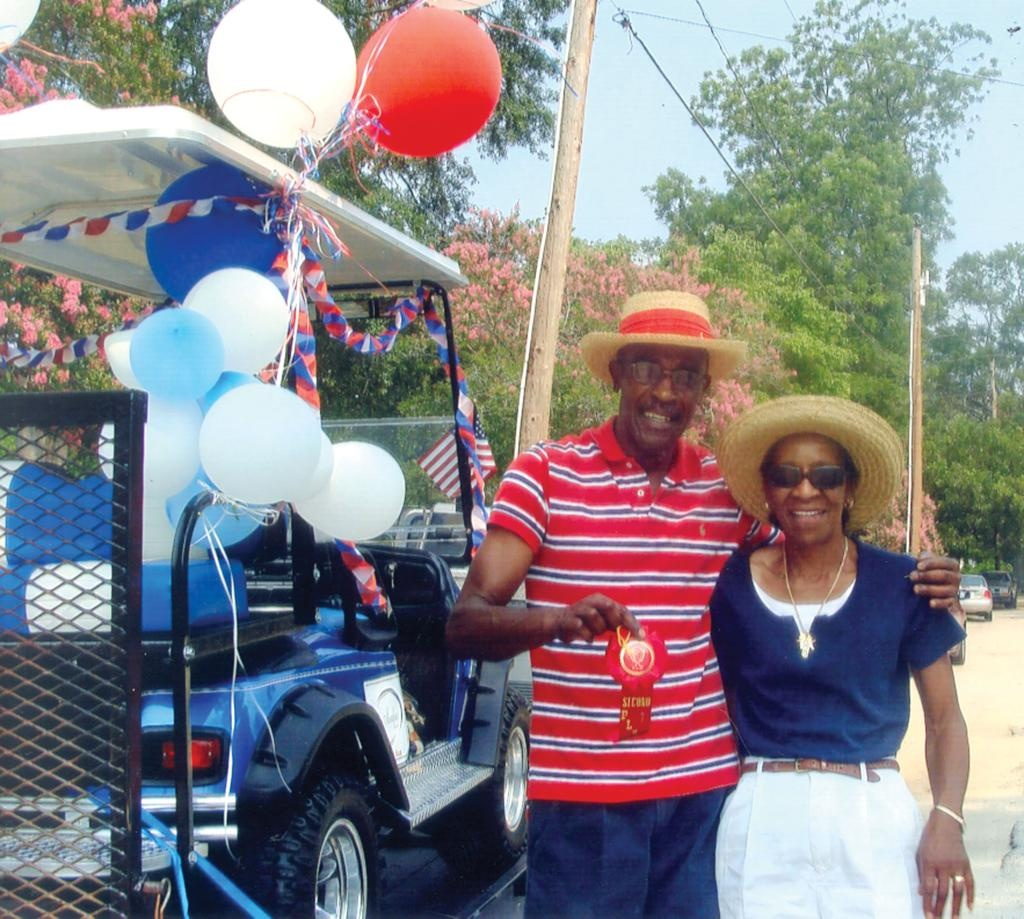human_face: (624, 328, 708, 450), (766, 432, 850, 546)
